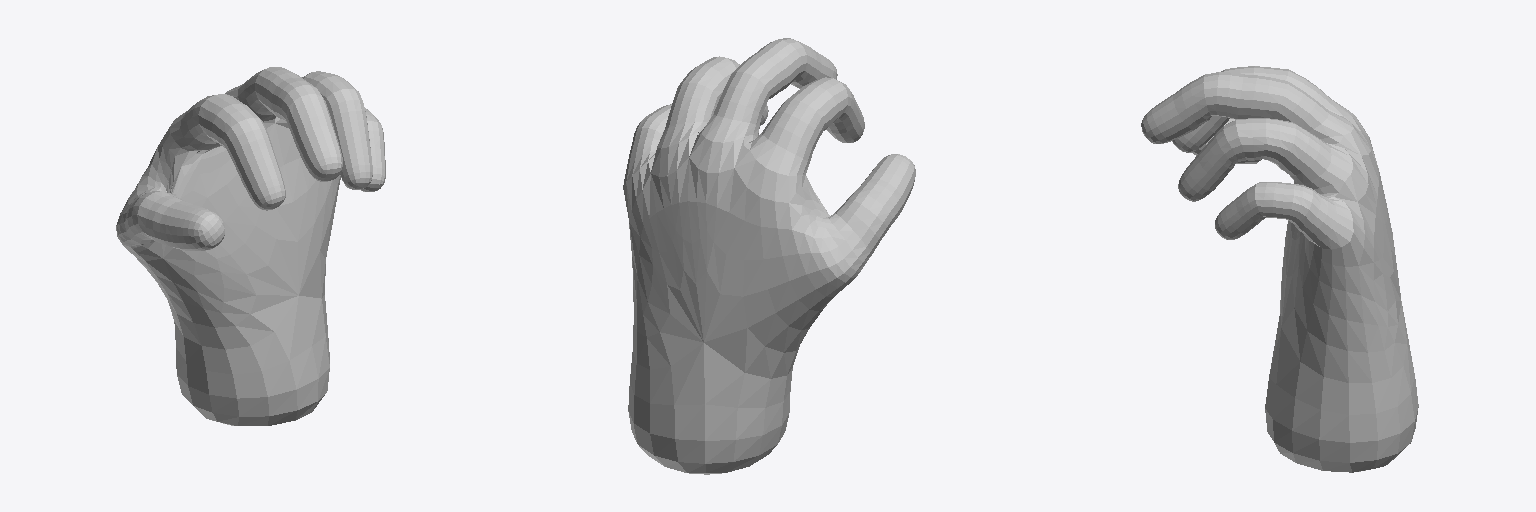
File: handanimatsion42.obj
The picture shows the model from 3 angles: view 1: azimuth 30°, elevation 25°; view 2: azimuth 150°, elevation 25°; view 3: azimuth 270°, elevation 25°; orthographic projection.
Visible parts, largest first — view 1: Cube; view 2: Cube; view 3: Cube.
Boxes of the visible parts, x1,y1,x2,y2 form: Cube: [116, 67, 385, 425]; Cube: [623, 38, 915, 474]; Cube: [1141, 66, 1418, 472].
Size of the model in its own units: 3.21 by 4.8 by 3.19.